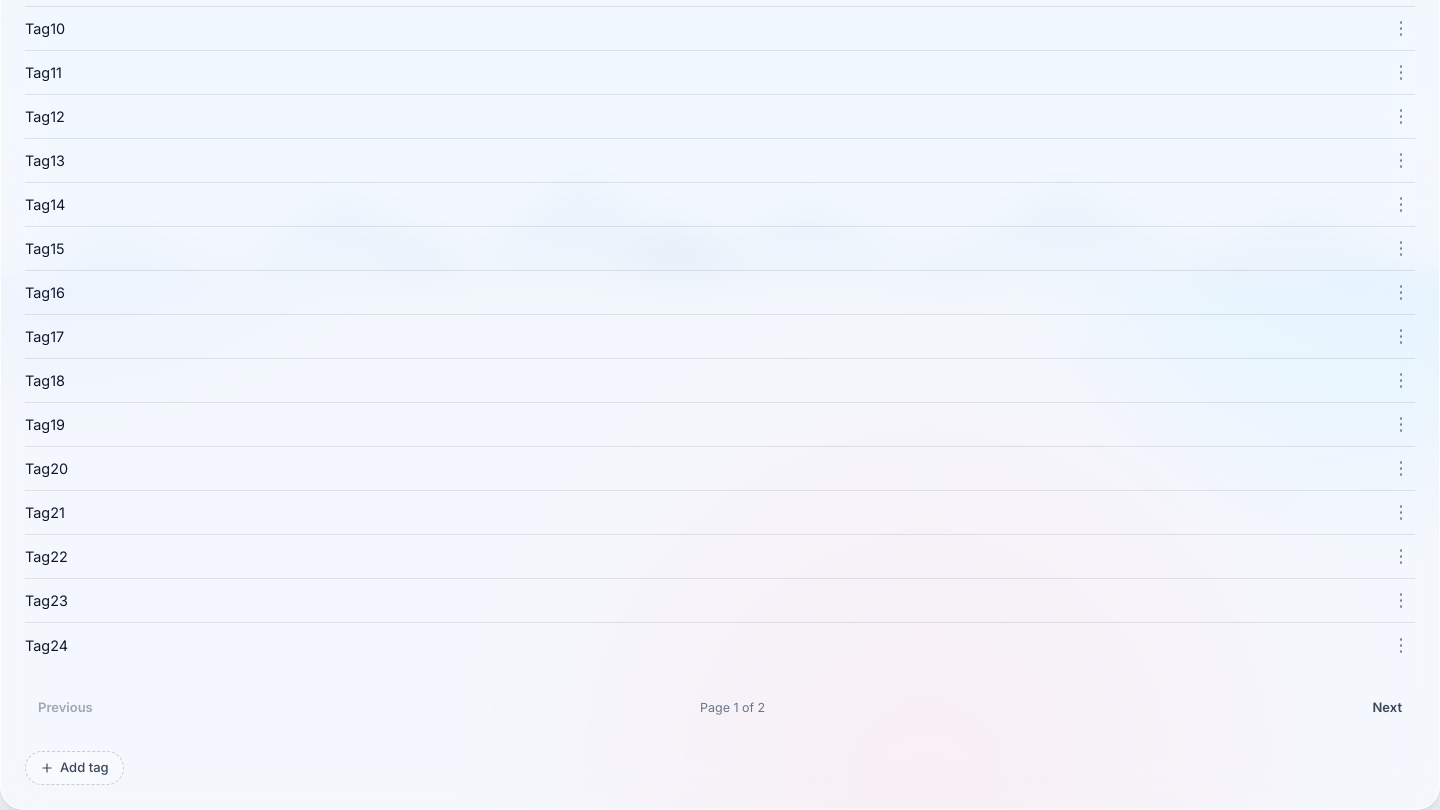
TagsSettings — paging › shows 25 rows per page and moves to the rest
The image size is (1440, 810).
(page scrolled)
Check: the text "Tag25" is not shown
Check: the text "Page 1 of 2" is shown, box x1=700 y1=700 x2=765 y2=714
Click the button "Next" at {"x": 1387, "y": 707}, box x1=1360 y1=691 x2=1415 y2=723
(page scrolled)
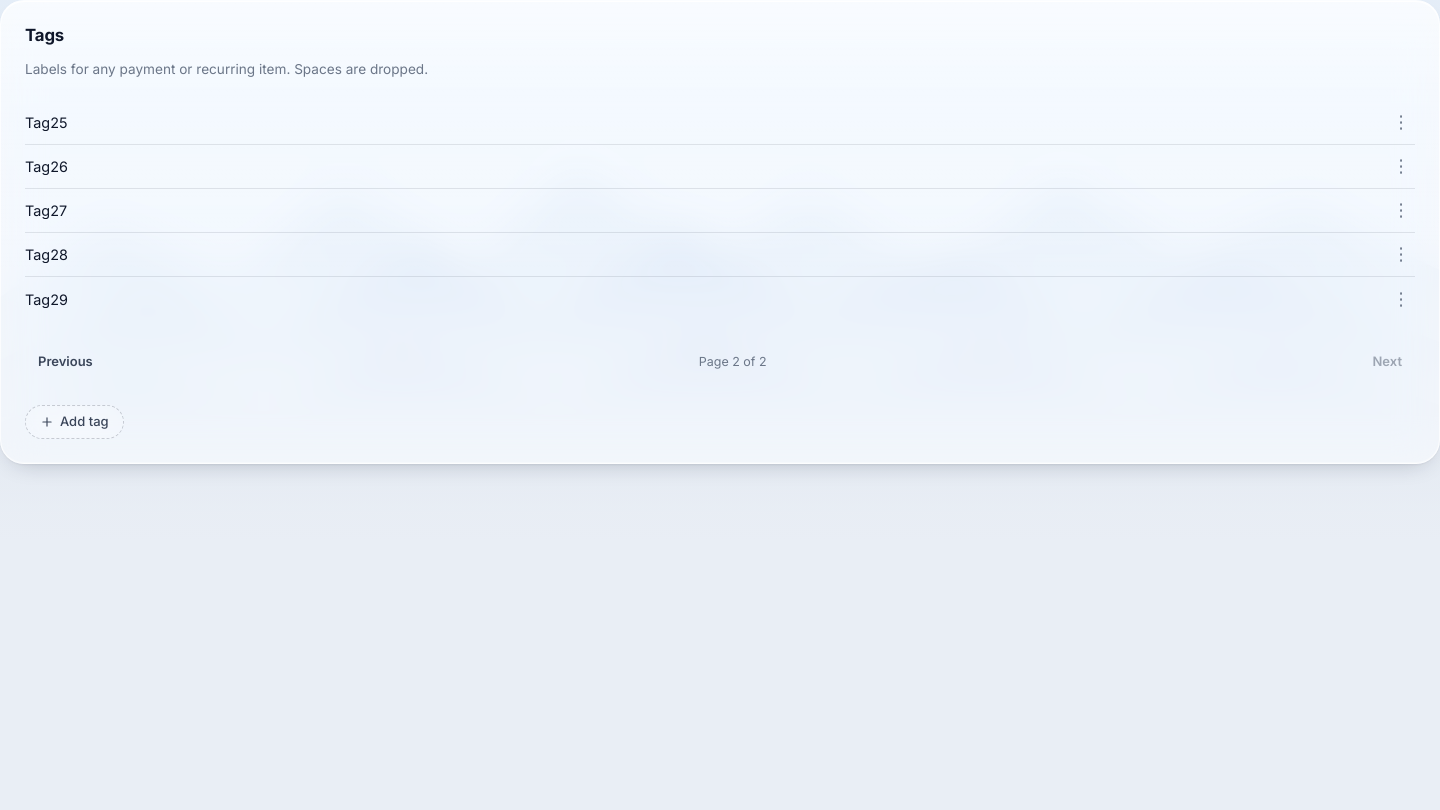
Check: the text "Tag25" is shown, box x1=25 y1=114 x2=68 y2=131
Check: the button "Next" is disabled, box x1=1360 y1=345 x2=1415 y2=377
